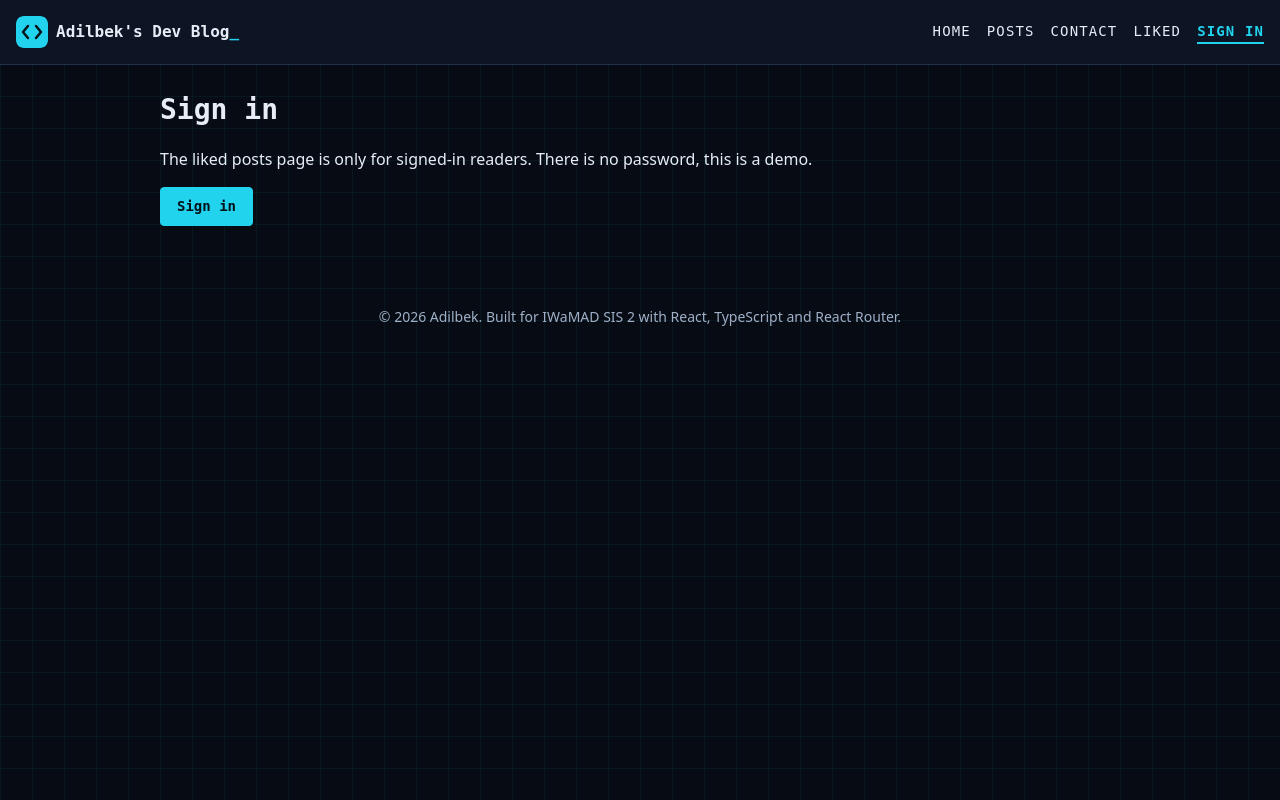
App routes › opens the protected page after signing in
Step 1. Click the button "Sign in" → (206, 206), box top-left (160, 187), bottom-right (253, 226)
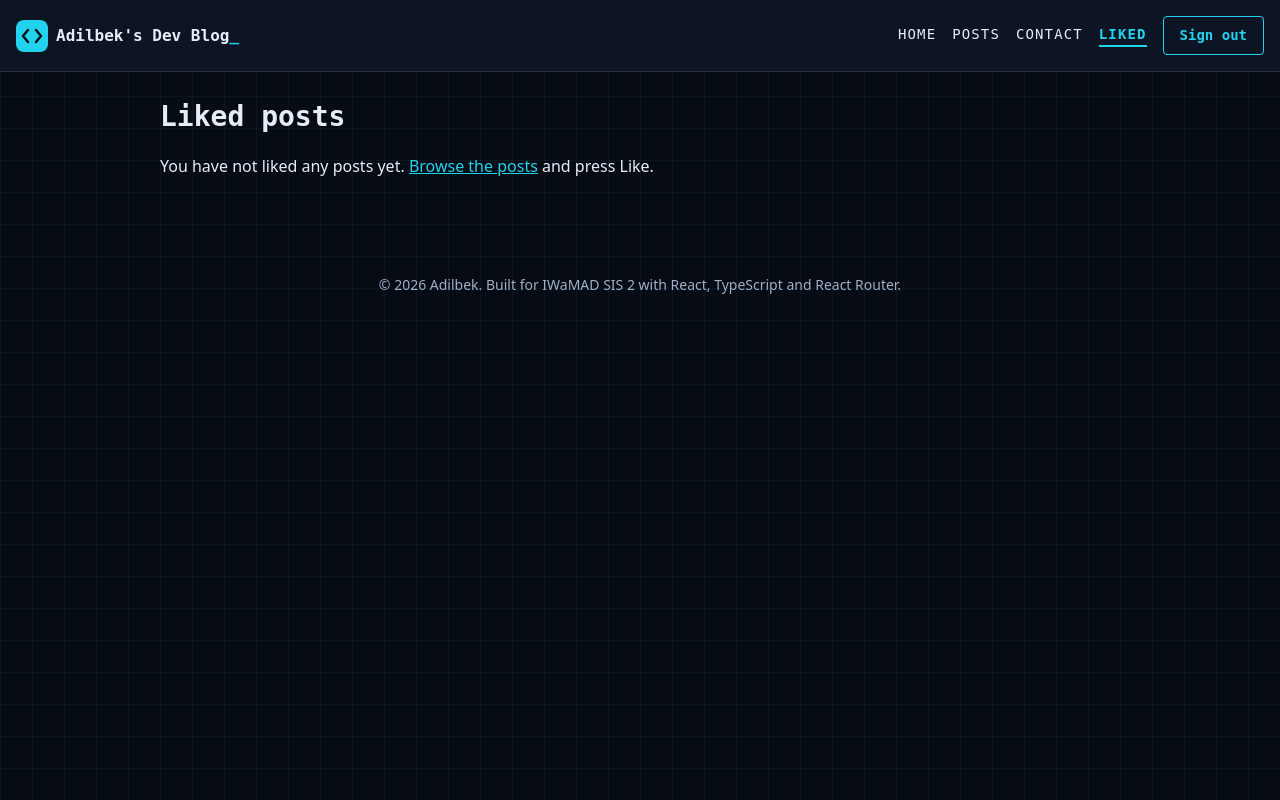
Now the heading "Liked posts" is shown, box top-left (160, 100), bottom-right (345, 133)
